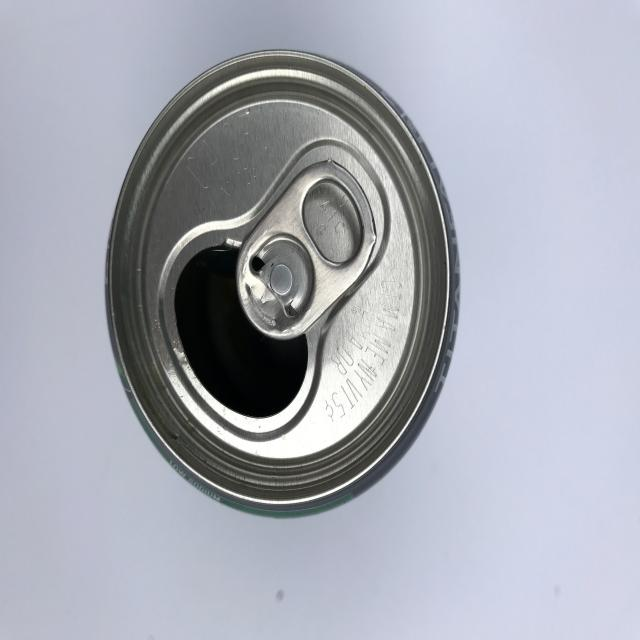metal: (104, 48, 461, 515)
